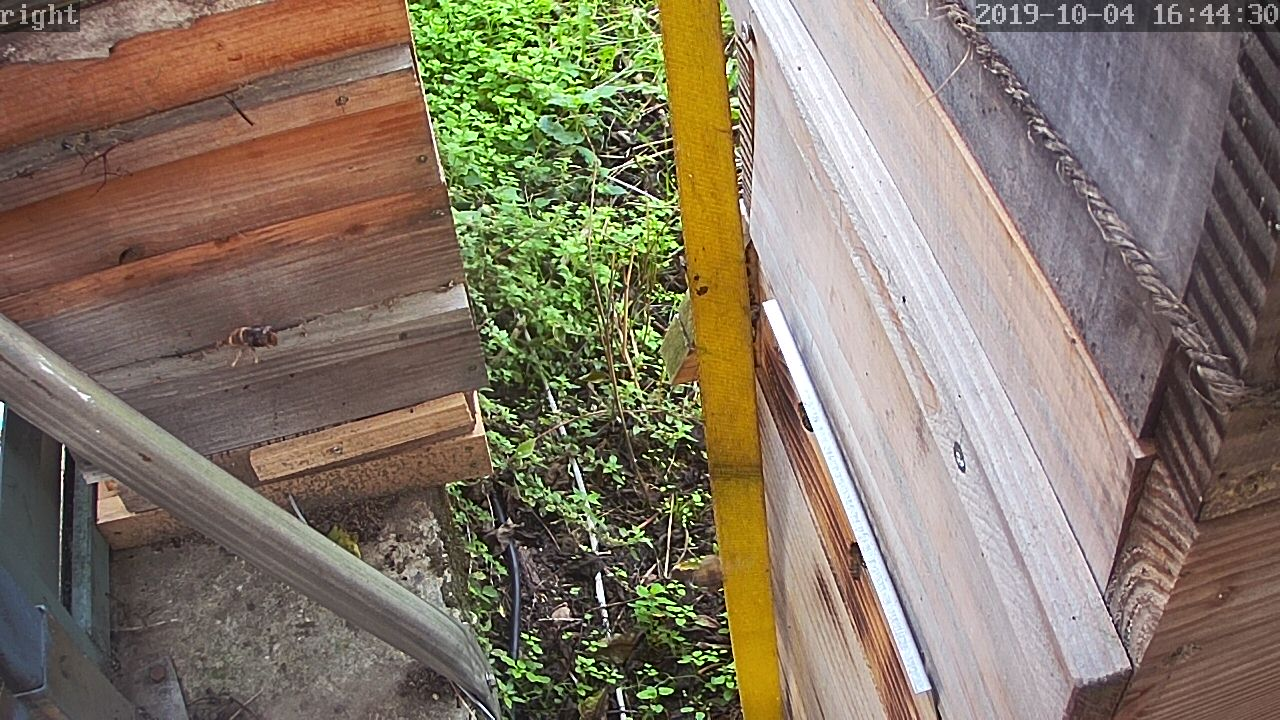bee: (842, 539, 871, 584), (790, 397, 818, 433)
hornet: (215, 321, 281, 364)
